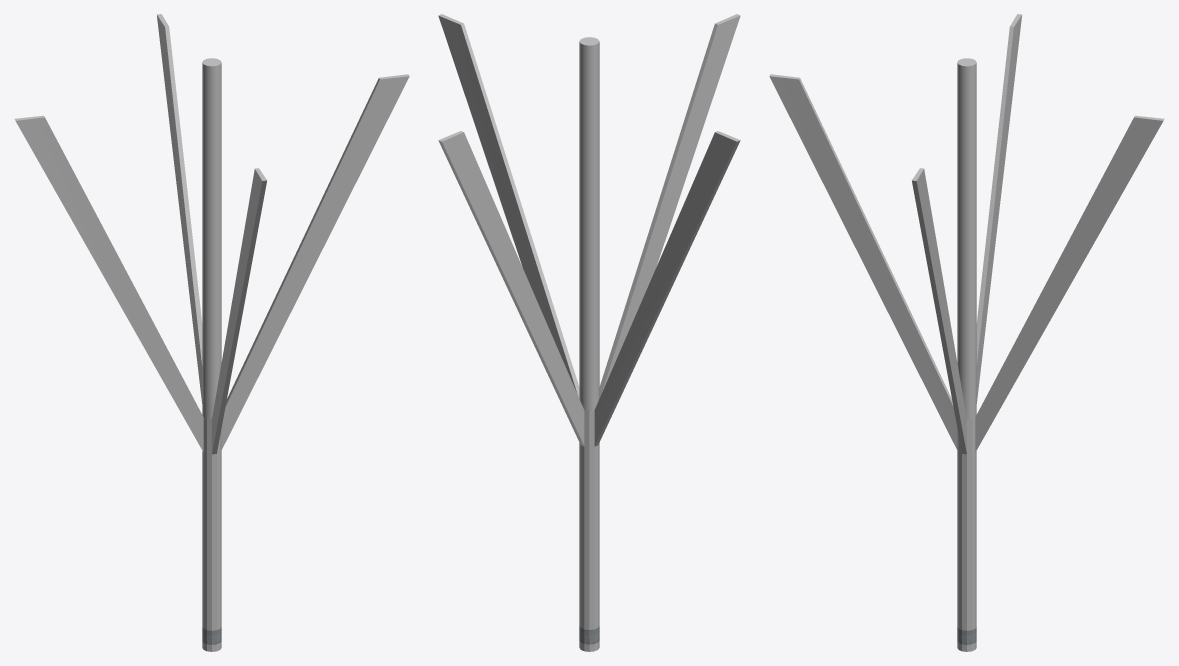
File: Radar-Antenna.obj
3 views of the same model, side by side, from view 1: azimuth 30°, elevation 25°; view 2: azimuth 150°, elevation 25°; view 3: azimuth 270°, elevation 25° (orthographic). The views are drawn at different scales.
Visible parts, largest first — view 1: Radar-Antenna; view 2: Radar-Antenna; view 3: Radar-Antenna.
Part boxes in pixels (bbox=[...]): Radar-Antenna: bbox=[14, 14, 409, 651]; Radar-Antenna: bbox=[438, 14, 740, 651]; Radar-Antenna: bbox=[769, 14, 1164, 651].
Size of the model in its own units: 0.508 by 0.83 by 0.508.
